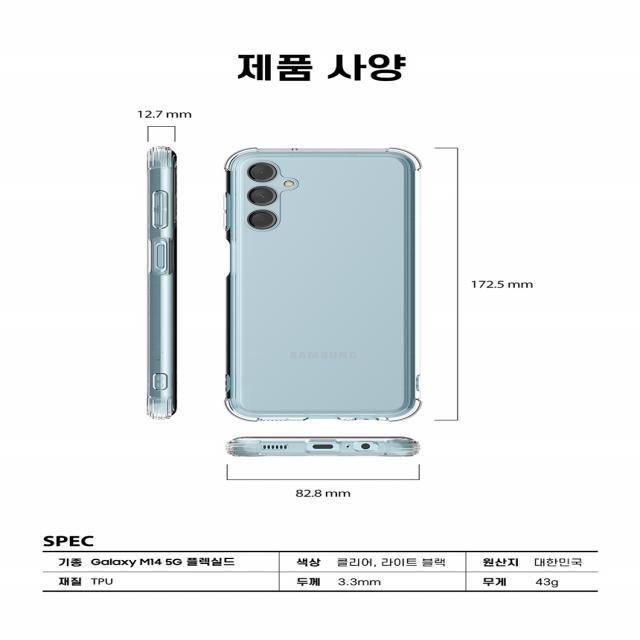phone: (221, 146, 423, 422)
